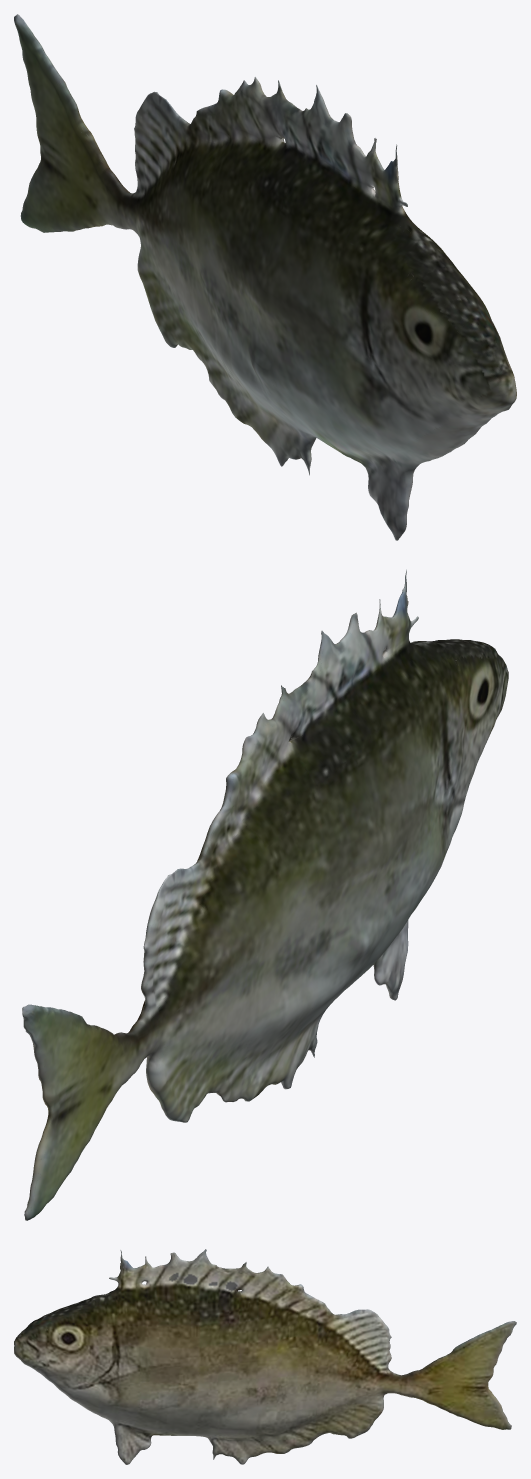
The picture shows the model from 3 angles, top to bottom: view 1: azimuth 30°, elevation 25°; view 2: azimuth 150°, elevation 25°; view 3: azimuth 270°, elevation 25°; orthographic projection. The views are drawn at different scales.
Parts seen in each view (by area): view 1: tripo_dac13c94-2dd6-48d6-9eeb-cebf140d64f0; view 2: tripo_dac13c94-2dd6-48d6-9eeb-cebf140d64f0; view 3: tripo_dac13c94-2dd6-48d6-9eeb-cebf140d64f0.
Part boxes in pixels (<box>): tripo_dac13c94-2dd6-48d6-9eeb-cebf140d64f0: <box>14,14,516,540</box>; tripo_dac13c94-2dd6-48d6-9eeb-cebf140d64f0: <box>22,569,508,1220</box>; tripo_dac13c94-2dd6-48d6-9eeb-cebf140d64f0: <box>14,1249,516,1464</box>.
Size of the model in its own units: 13.68 by 46.91 by 99.01.
Materials: 1 (1 with a texture image).
